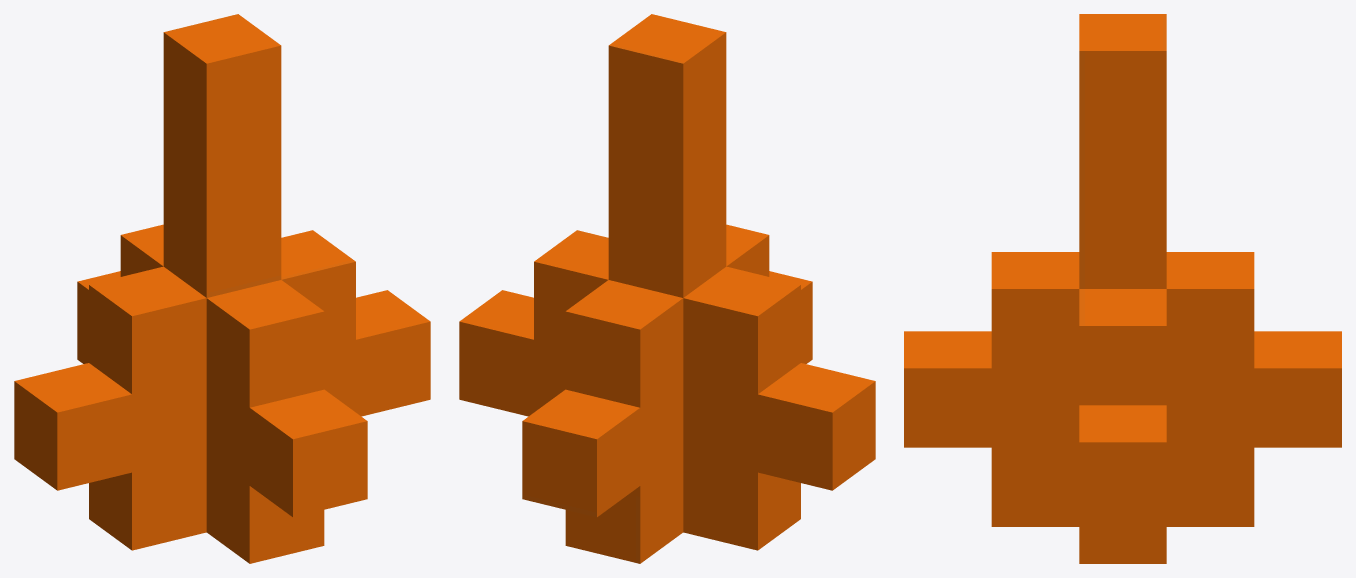
Rendered from Gun_Fire_01.FBX.
The picture shows the model from 3 angles, left to right: view 1: azimuth 30°, elevation 25°; view 2: azimuth 150°, elevation 25°; view 3: azimuth 270°, elevation 25°; orthographic projection.
Parts seen in each view (by area): view 1: Gun_Fire_01; view 2: Gun_Fire_01; view 3: Gun_Fire_01.
Boxes of the visible parts, x1,y1,x2,y2 form: Gun_Fire_01: (14, 14, 430, 563); Gun_Fire_01: (459, 14, 875, 563); Gun_Fire_01: (904, 14, 1341, 563).
Size of the model in its own units: 50 by 60 by 50.
